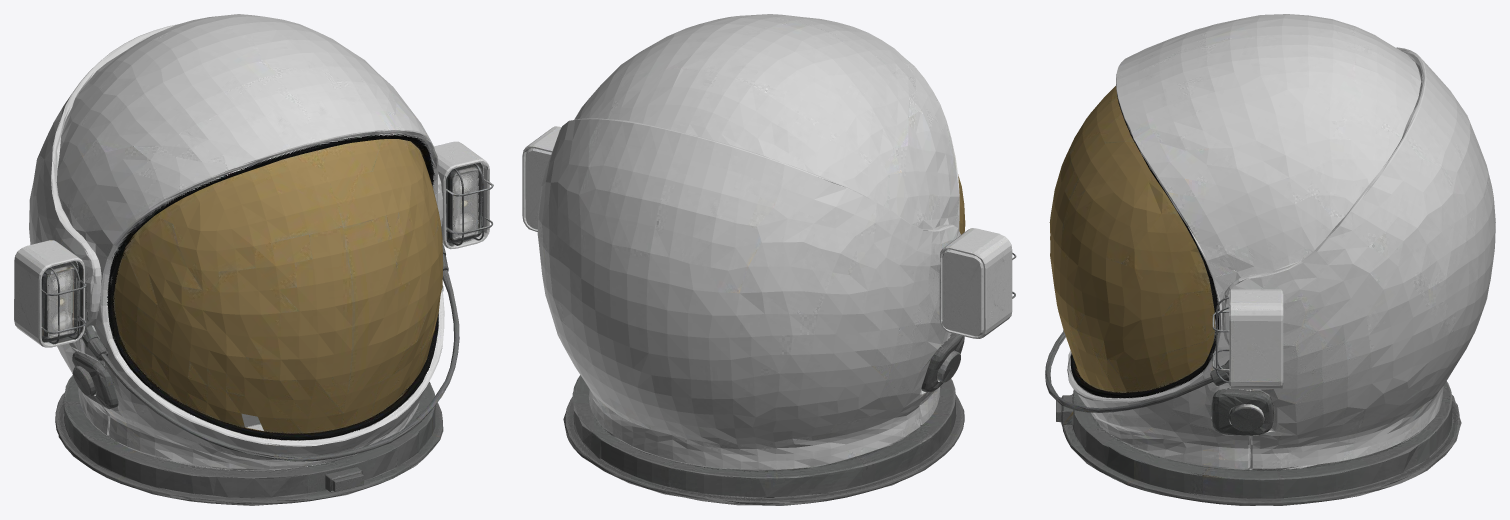
The model's file is ewm_astrohelmet.glb.
3 views of the same model, side by side, from view 1: azimuth 30°, elevation 25°; view 2: azimuth 150°, elevation 25°; view 3: azimuth 270°, elevation 25° (orthographic). The views are drawn at different scales.
Parts seen in each view (by area): view 1: ewm_astrohelmet; view 2: ewm_astrohelmet; view 3: ewm_astrohelmet.
Boxes of the visible parts, x1,y1,x2,y2 form: ewm_astrohelmet: (14, 14, 493, 505); ewm_astrohelmet: (522, 14, 1016, 505); ewm_astrohelmet: (1045, 14, 1495, 505).
Bounding box in the file's own units: 0.3008 × 0.242 × 0.2544.
Materials: 1 (1 with a texture image).
